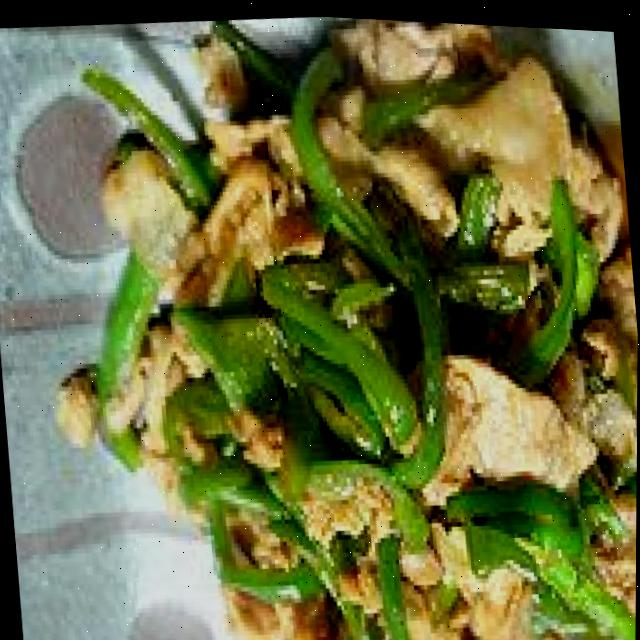牛肉菜式: (67, 3, 640, 640)
